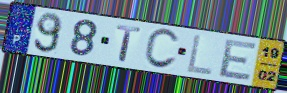8: (68, 18, 99, 58)
9: (32, 11, 64, 55)
C: (142, 28, 181, 71)
E: (217, 38, 259, 82)
L: (185, 33, 215, 77)
T: (115, 24, 143, 64)
